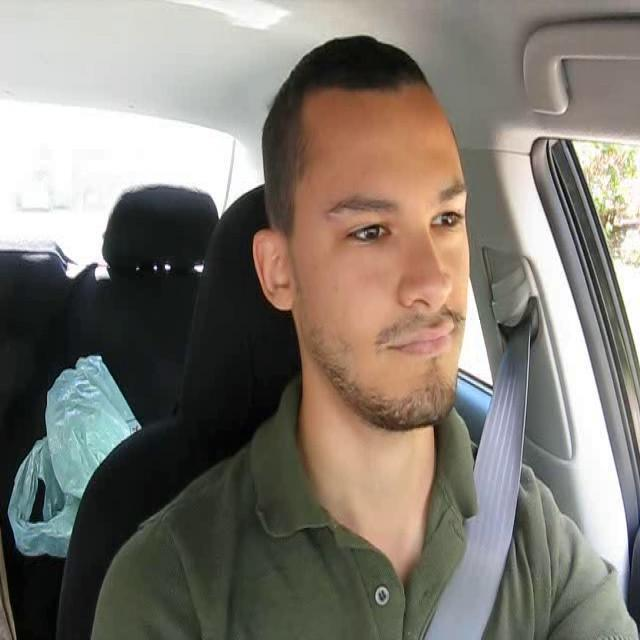open: (324, 196, 404, 250), (423, 181, 473, 234)
